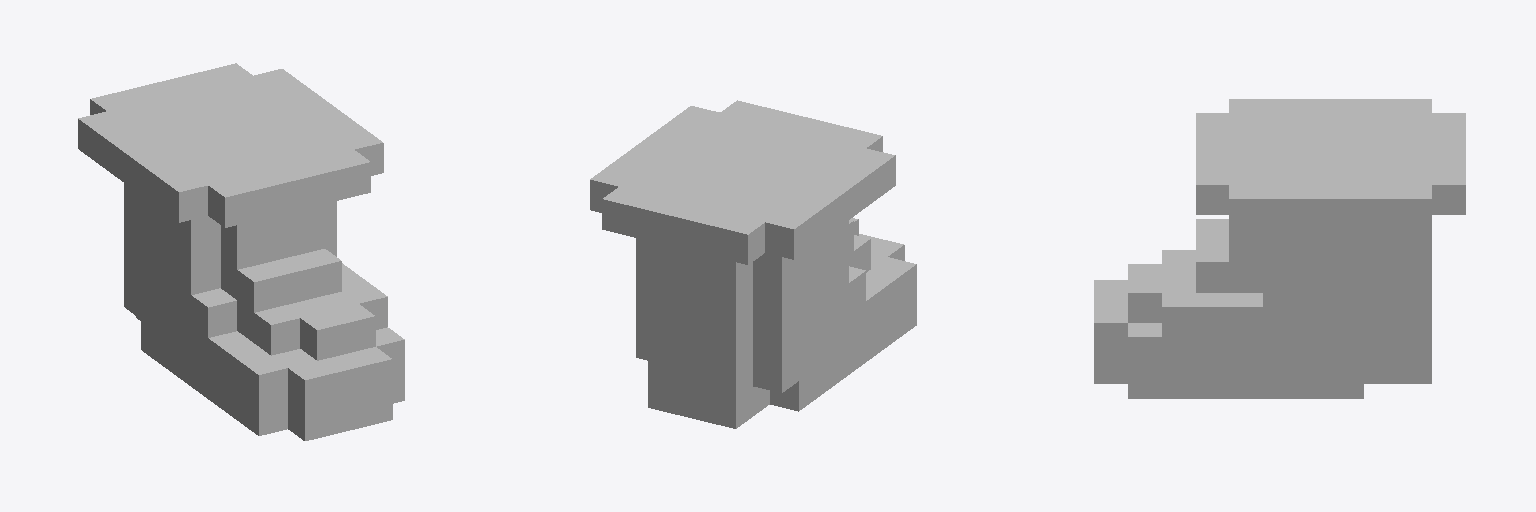
File: dwarfwarriorfoot.obj
The picture shows the model from 3 angles: view 1: azimuth 30°, elevation 25°; view 2: azimuth 150°, elevation 25°; view 3: azimuth 270°, elevation 25°; orthographic projection.
Visible parts, largest first — view 1: DwarfAsWarrior; view 2: DwarfAsWarrior; view 3: DwarfAsWarrior.
Part boxes in pixels (left/top/right/bottom): DwarfAsWarrior: left=78, top=63, right=404, bottom=440; DwarfAsWarrior: left=590, top=100, right=916, bottom=428; DwarfAsWarrior: left=1094, top=99, right=1465, bottom=398.
Bounding box in the file's own units: 7 × 7 × 11.